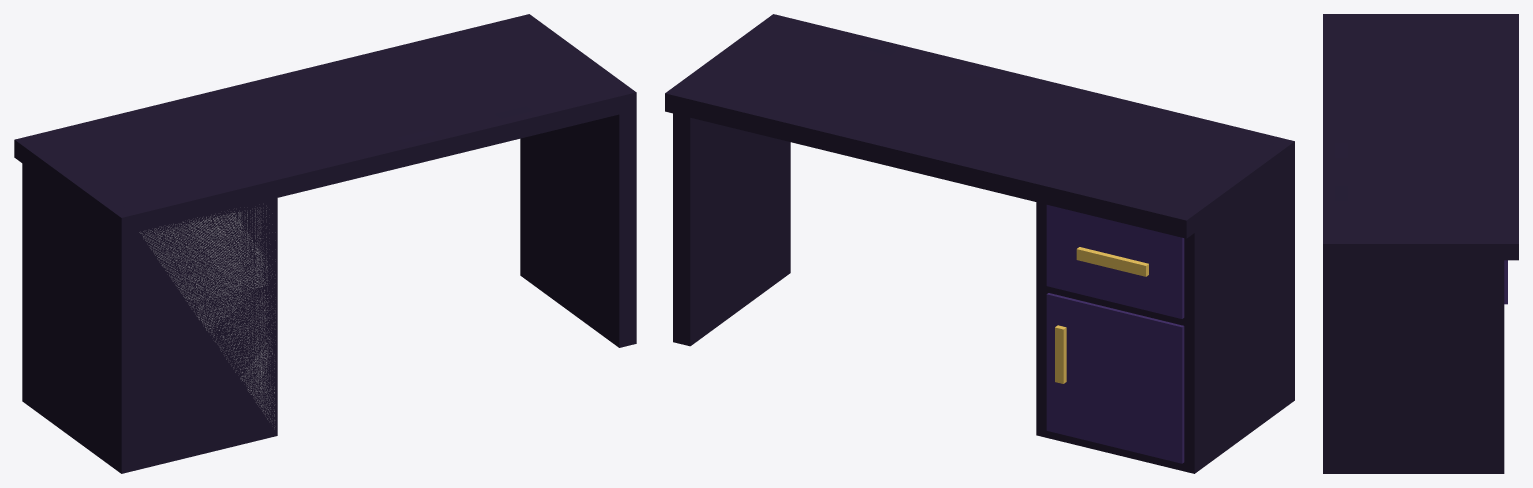
The model's file is escrivaninha_cor.gltf.
The picture shows the model from 3 angles, left to right: view 1: azimuth 30°, elevation 25°; view 2: azimuth 150°, elevation 25°; view 3: azimuth 270°, elevation 25°; orthographic projection. The views are drawn at different scales.
Parts seen in each view (by area): view 1: superior, lateral (×3), traseira, suporte_inf, suporte_meio, suporte_sup; view 2: superior, lateral (×3), portinha, frente, suporte_inf, puxador (×2), suporte_meio, suporte_sup; view 3: superior, lateral (×3).
Part boxes in pixels (x1,y1,x2,y2): superior: (14,14,636,235); lateral (×3): (22,20,636,469); traseira: (138,204,275,464); suporte_inf: (22,392,277,473); suporte_meio: (22,249,275,328); suporte_sup: (22,159,276,237); superior: (665,14,1294,238); lateral (×3): (673,14,1294,469); portinha: (1046,293,1184,463); frente: (1046,205,1184,318); suporte_inf: (1036,392,1294,473); puxador (×2): (1055,247,1148,383); suporte_meio: (1038,246,1294,328); suporte_sup: (1192,156,1294,236); superior: (1323,14,1518,260); lateral (×3): (1323,14,1504,473).
Size of the model in its own units: 1.88 by 0.8906 by 0.675.
8 materials, 3 textured.
